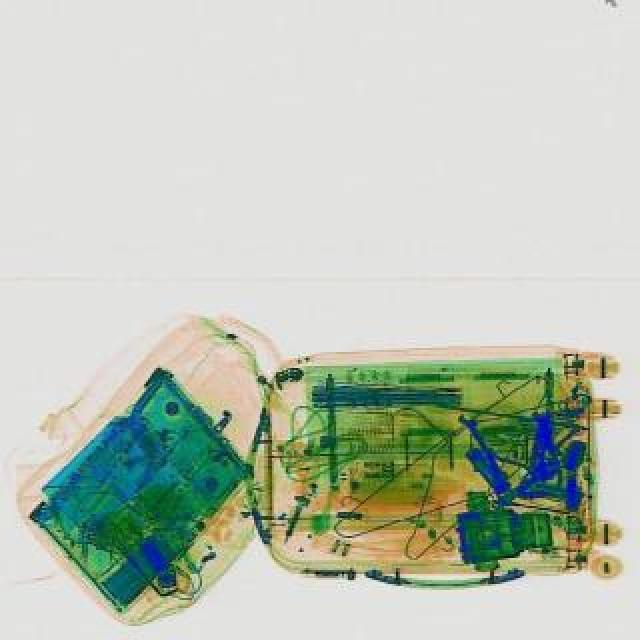scissors: (456, 412, 514, 492)
